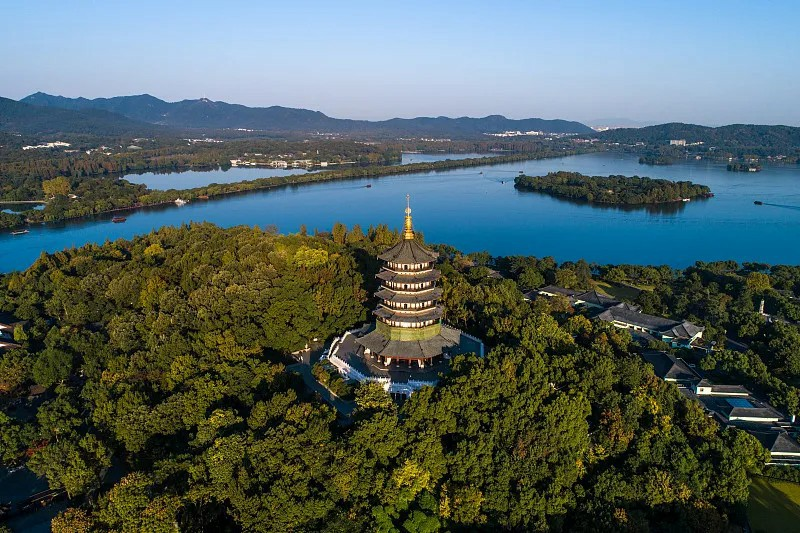Leifeng: (356, 192, 462, 367)
